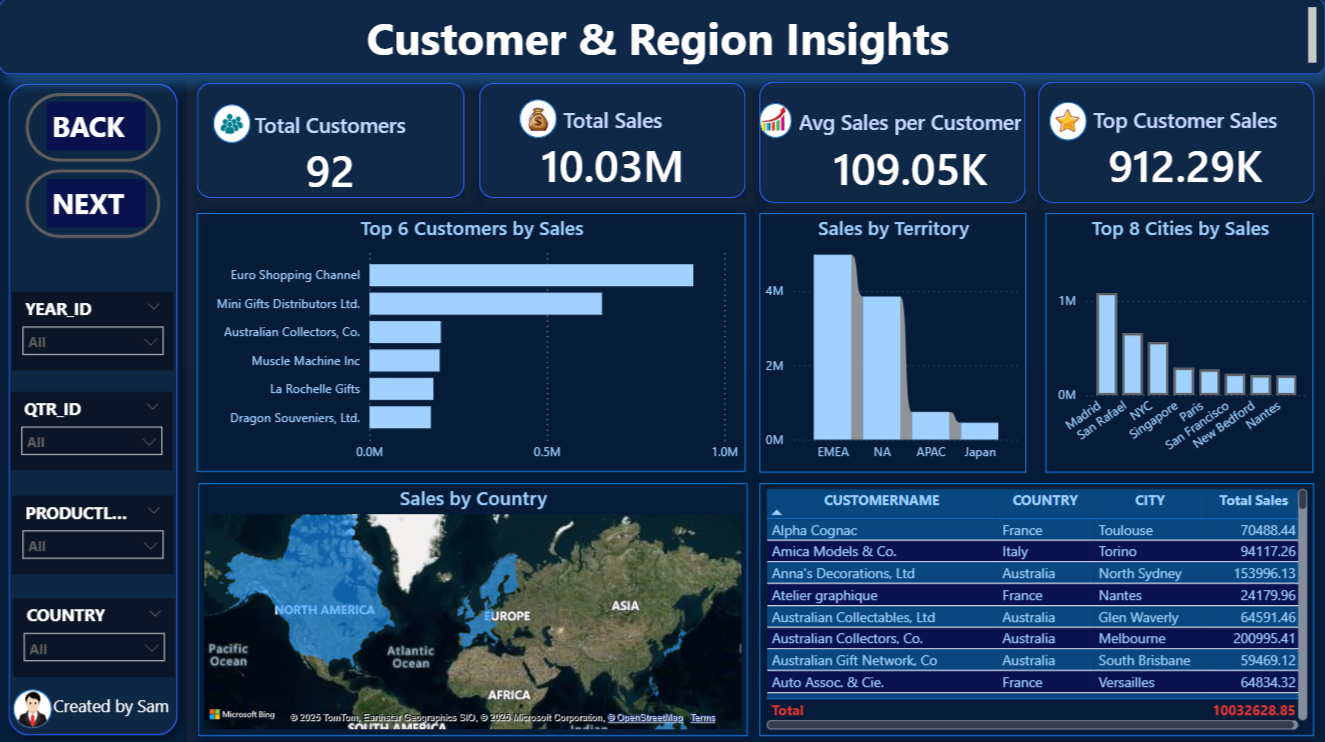

The dashboard page shown, as its layout file describes it:
{"tool":"powerbi","page":{"name":"Customer & Region Insights","canvas":[1280,720],"ordinal":3},"visuals":[{"type":"shape","box":[0,73.6,181,646.7],"z":0},{"type":"textbox","box":[0,0,1280,73.6],"z":1000},{"type":"shape","box":[190.6,82,258.2,111],"z":2000},{"type":"shape","box":[463.3,82,257,111],"z":3000},{"type":"shape","box":[1002.6,80.8,266.6,117],"z":4000},{"type":"slicer","fields":{"Values":["sales_data_sample xlsx.YEAR_ID"]},"box":[12.5,283.8,156.2,76.2],"z":5000},{"type":"slicer","fields":{"Values":["sales_data_sample xlsx.QTR_ID"]},"box":[11.2,380,156.2,76.2],"z":6000},{"type":"slicer","fields":{"Values":["sales_data_sample xlsx.COUNTRY"]},"box":[13.8,578.8,156.2,76.2],"z":7000},{"type":"slicer","fields":{"Values":["sales_data_sample xlsx.PRODUCTLINE"]},"box":[12.5,480,156.2,76.2],"z":8000},{"type":"actionButton","box":[25,165,130,66.2],"z":9000},{"type":"textbox","box":[46.2,175,95,46.2],"z":10000},{"type":"actionButton","box":[25.3,91.7,130.3,66.4],"z":11000},{"type":"textbox","box":[45.8,100.1,95.3,47.1],"z":12000},{"type":"shape","box":[733.5,80.8,257,117],"z":13000},{"type":"cardVisual","fields":{"Data":["sales_data_sample xlsx.Total Customers"]},"box":[206.3,91.7,226.8,101.3],"z":14000},{"type":"cardVisual","fields":{"Data":["sales_data_sample xlsx.Avg Sales per Customer"]},"box":[745.6,89.3,267.8,101.3],"z":15000},{"type":"cardVisual","fields":{"Data":["sales_data_sample xlsx.Total Sales"]},"box":[479,86.9,226.8,101.3],"z":16000},{"type":"cardVisual","fields":{"Data":["sales_data_sample xlsx.Top Customer Sales"]},"box":[1031.5,86.9,226.8,101.3],"z":17000},{"type":"shape","box":[1013.4,100.1,36.2,37.4],"z":18000},{"type":"shape","box":[206.3,102.5,36.2,37.4],"z":19000},{"type":"shape","box":[501.9,97.7,36.2,37.4],"z":20000},{"type":"shape","box":[733.5,101.3,31.4,33.8],"z":21000},{"type":"image","box":[729.9,89.3,35,54.3],"z":22000},{"type":"image","box":[202.7,94.1,43.4,54.3],"z":23000},{"type":"image","box":[501.9,97.7,37.4,38.6],"z":24000},{"type":"image","box":[997.7,91.7,66.4,54.3],"z":25000},{"type":"clusteredBarChart","title":"Top 6 Customers by Sales","fields":{"Y":["sales_data_sample xlsx.Total Sales"],"Category":["sales_data_sample xlsx.CUSTOMERNAME"]},"box":[190.6,207.5,529.6,249.7],"z":26000},{"type":"filledMap","title":"Sales by Country","fields":{"Y":["sales_data_sample xlsx.Total Sales"],"Category":["sales_data_sample xlsx.COUNTRY"]},"box":[191.2,467.5,530,243.8],"z":27000},{"type":"columnChart","title":"Sales by Territory","fields":{"Y":["sales_data_sample xlsx.Total Sales"],"Category":["sales_data_sample xlsx.TERRITORY"]},"box":[733.8,207.5,257.5,250],"z":28000},{"type":"columnChart","title":"Top 8 Cities by Sales","fields":{"Y":["sales_data_sample xlsx.Total Sales"],"Category":["sales_data_sample xlsx.CITY"]},"box":[1010,207.5,258.8,250],"z":29000},{"type":"tableEx","fields":{"Values":["sales_data_sample xlsx.CUSTOMERNAME","sales_data_sample xlsx.COUNTRY","sales_data_sample xlsx.CITY","sales_data_sample xlsx.Total Sales"]},"box":[733.8,467.5,535,243.8],"z":30000},{"type":"textbox","box":[47.5,667.5,133.8,40],"z":31000},{"type":"shape","box":[13.8,667.5,37.5,37.5],"z":32000},{"type":"image","box":[8.8,653.8,47.5,65],"z":33000}]}

Visuals, with their boxes in screenshot pixels (x1, y1, x2, y2), scaled from the page's 1280x720 canvas onto the 1325x742 screenshot:
shape: 0,76,187,741
textbox: 0,0,1324,76
shape: 197,85,465,199
shape: 480,85,746,199
shape: 1038,83,1314,204
slicer - sales_data_sample xlsx.YEAR_ID: 13,292,175,371
slicer - sales_data_sample xlsx.QTR_ID: 12,392,173,470
slicer - sales_data_sample xlsx.COUNTRY: 14,596,176,675
slicer - sales_data_sample xlsx.PRODUCTLINE: 13,495,175,573
actionButton: 26,170,160,238
textbox: 48,180,146,228
actionButton: 26,95,161,163
textbox: 47,103,146,152
shape: 759,83,1025,204
cardVisual - sales_data_sample xlsx.Total Customers: 214,95,448,199
cardVisual - sales_data_sample xlsx.Avg Sales per Customer: 772,92,1049,196
cardVisual - sales_data_sample xlsx.Total Sales: 496,90,731,194
cardVisual - sales_data_sample xlsx.Top Customer Sales: 1068,90,1303,194
shape: 1049,103,1086,142
shape: 214,106,251,144
shape: 520,101,557,139
shape: 759,104,792,139
image: 756,92,792,148
image: 210,97,255,153
image: 520,101,558,140
image: 1033,95,1102,150
"Top 6 Customers by Sales" clusteredBarChart: 197,214,746,471
"Sales by Country" filledMap: 198,482,747,733
"Sales by Territory" columnChart: 760,214,1026,471
"Top 8 Cities by Sales" columnChart: 1046,214,1313,471
tableEx - sales_data_sample xlsx.CUSTOMERNAME x sales_data_sample xlsx.COUNTRY: 760,482,1313,733
textbox: 49,688,188,729
shape: 14,688,53,727
image: 9,674,58,741
